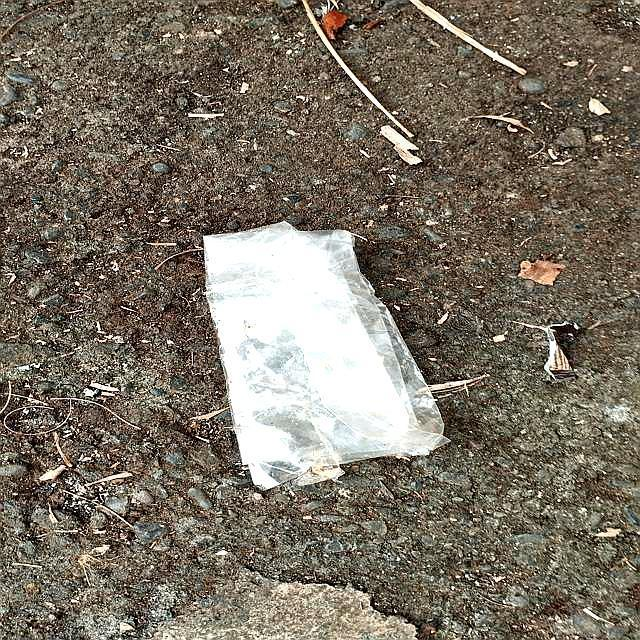Non-biodegradable: (200, 220, 450, 494)
